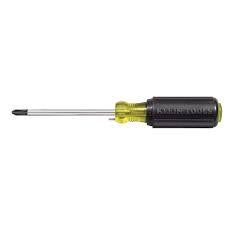screwdriver: (11, 95, 222, 128)
